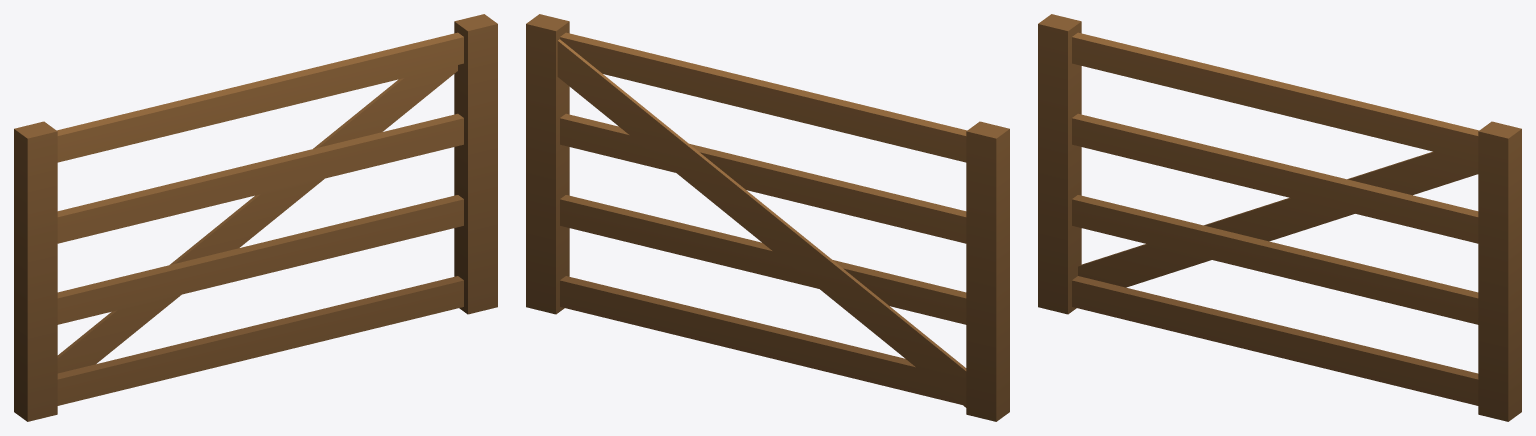
The model's file is Bld_01_Fence_Wood_Gate_Single_Long_01.obj.
The picture shows the model from 3 angles, left to right: view 1: azimuth 30°, elevation 25°; view 2: azimuth 150°, elevation 25°; view 3: azimuth 330°, elevation 25°; orthographic projection.
Parts seen in each view (by area): view 1: Bld_01_Fence_Wood_Gate_Single_Long_01; view 2: Bld_01_Fence_Wood_Gate_Single_Long_01; view 3: Bld_01_Fence_Wood_Gate_Single_Long_01.
Part boxes in pixels (x1=…): Bld_01_Fence_Wood_Gate_Single_Long_01: x1=14, y1=14, x2=497, y2=421; Bld_01_Fence_Wood_Gate_Single_Long_01: x1=526, y1=14, x2=1009, y2=421; Bld_01_Fence_Wood_Gate_Single_Long_01: x1=1038, y1=14, x2=1521, y2=421.
Bounding box in the file's own units: 1.8 × 1.04 × 0.0898.
Materials: 1 (1 with a texture image).
